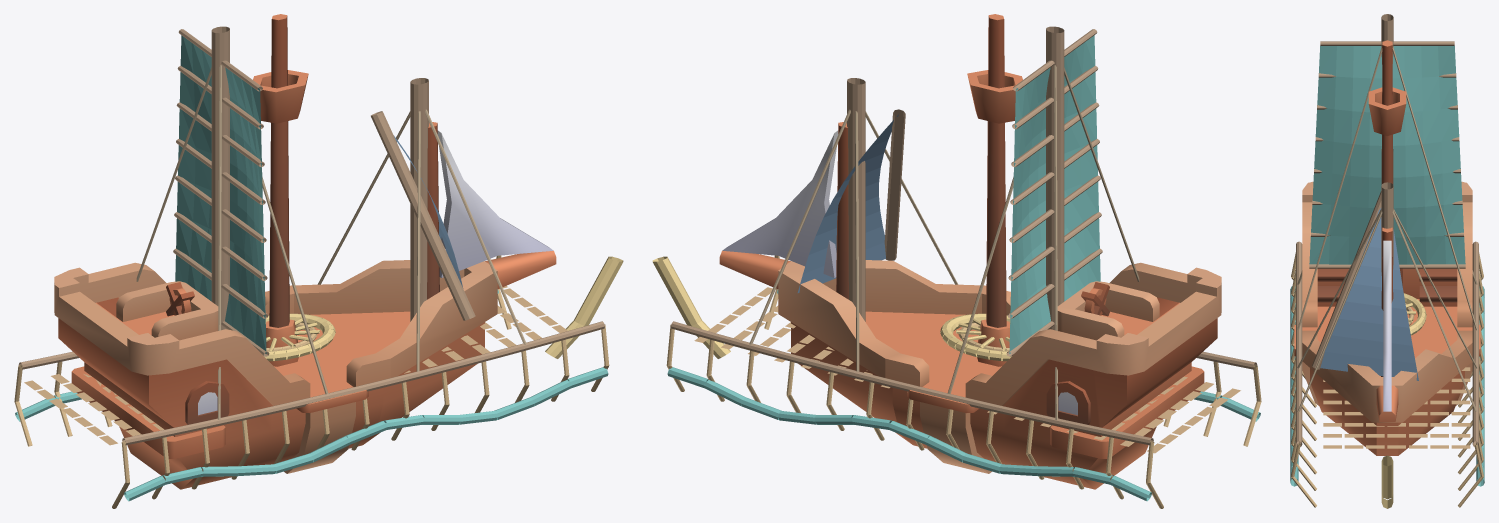
File: mu_voyager-custom.glb
3 views of the same model, side by side, from view 1: azimuth 30°, elevation 25°; view 2: azimuth 150°, elevation 25°; view 3: azimuth 270°, elevation 25° (orthographic). The views are drawn at different scales.
Visible parts, largest first — view 1: ship-small, mu_voyager-custom-geometry; view 2: ship-small, mu_voyager-custom-geometry; view 3: mu_voyager-custom-geometry, ship-small.
Boxes of the visible parts, <box> form: ship-small: <box>54,14,556,489</box>; mu_voyager-custom-geometry: <box>14,26,623,508</box>; ship-small: <box>719,14,1221,489</box>; mu_voyager-custom-geometry: <box>652,26,1261,508</box>; mu_voyager-custom-geometry: <box>1290,14,1484,508</box>; ship-small: <box>1294,40,1480,455</box>.
Size of the model in its own units: 26.65 by 20 by 9.5.
8 materials, 1 textured.
